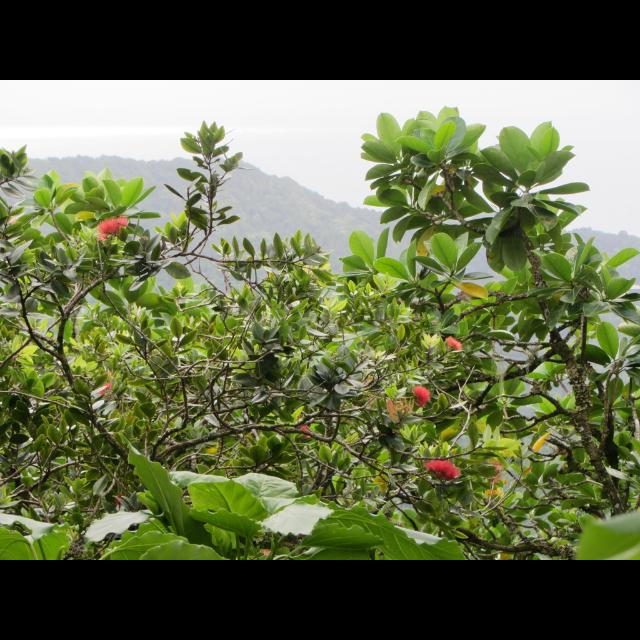Flower: (422, 454, 458, 480), (93, 216, 129, 238), (412, 383, 431, 407), (442, 337, 466, 353)
